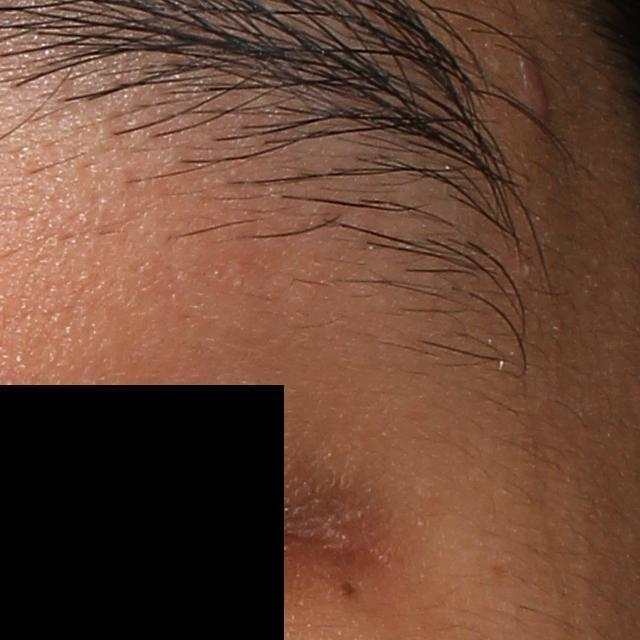nevus: (334, 578, 358, 598)
papule: (510, 45, 556, 133)
